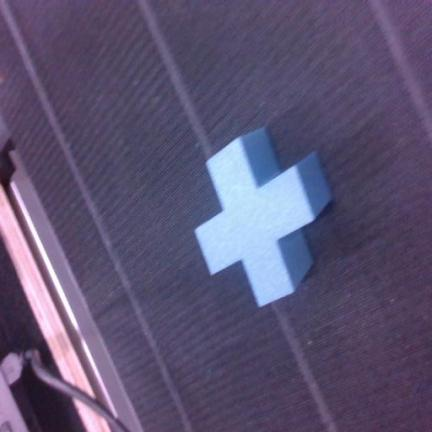cross: (195, 129, 330, 305)
